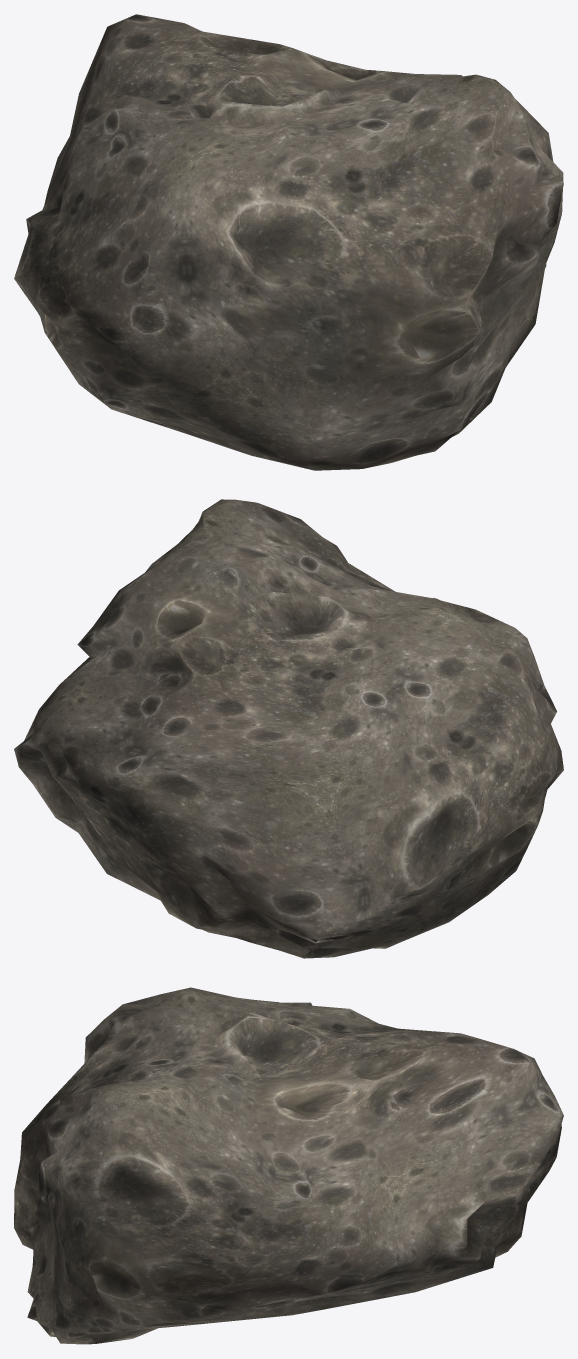
File: Asteroid_02_L1.FBX
The picture shows the model from 3 angles, top to bottom: view 1: azimuth 30°, elevation 25°; view 2: azimuth 150°, elevation 25°; view 3: azimuth 270°, elevation 25°; orthographic projection. The views are drawn at different scales.
Visible parts, largest first — view 1: Asteroid; view 2: Asteroid; view 3: Asteroid.
Boxes of the visible parts, <box> form: Asteroid: <box>14,14,563,470</box>; Asteroid: <box>14,499,563,958</box>; Asteroid: <box>14,987,563,1344</box>.
Bounding box in the file's own units: 2.91 × 2.02 × 3.18.
